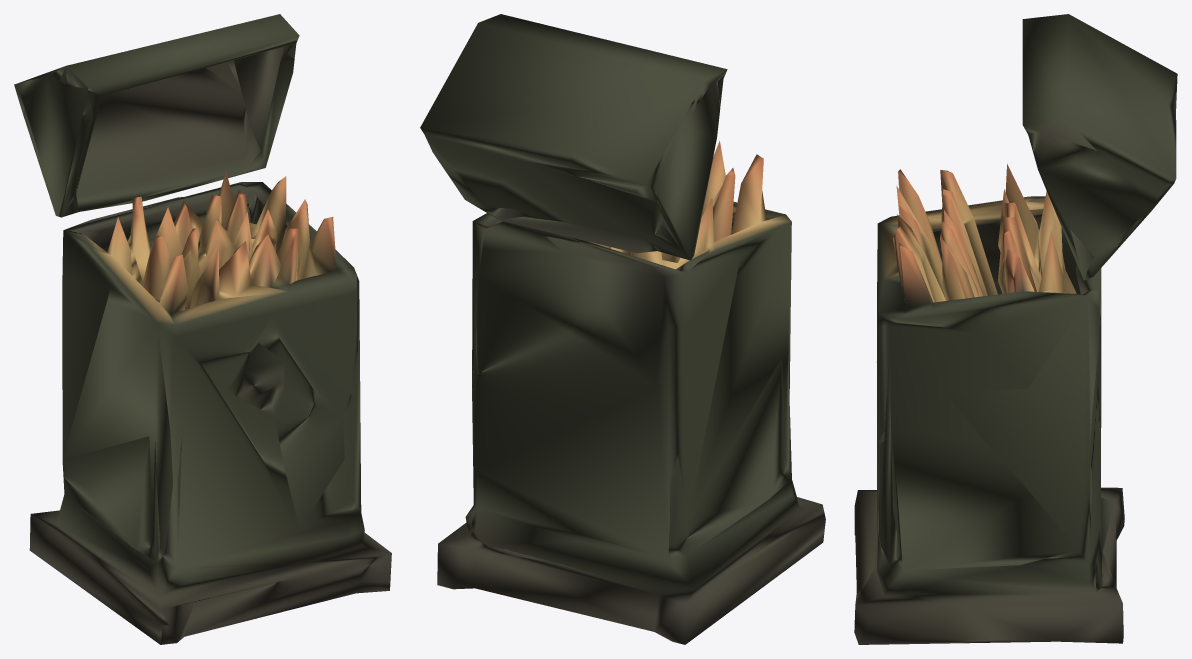
Rendered from gen3d-ammo-lod1.glb.
The picture shows the model from 3 angles, left to right: view 1: azimuth 30°, elevation 25°; view 2: azimuth 150°, elevation 25°; view 3: azimuth 270°, elevation 25°; orthographic projection. The views are drawn at different scales.
Parts seen in each view (by area): view 1: part_0; view 2: part_0; view 3: part_0.
Boxes of the visible parts, left/top/right/bottom form: part_0: left=14, top=14, right=391, bottom=644; part_0: left=420, top=14, right=825, bottom=644; part_0: left=854, top=14, right=1177, bottom=644.
Bounding box in the file's own units: 0.4828 × 0.9995 × 0.5613.
